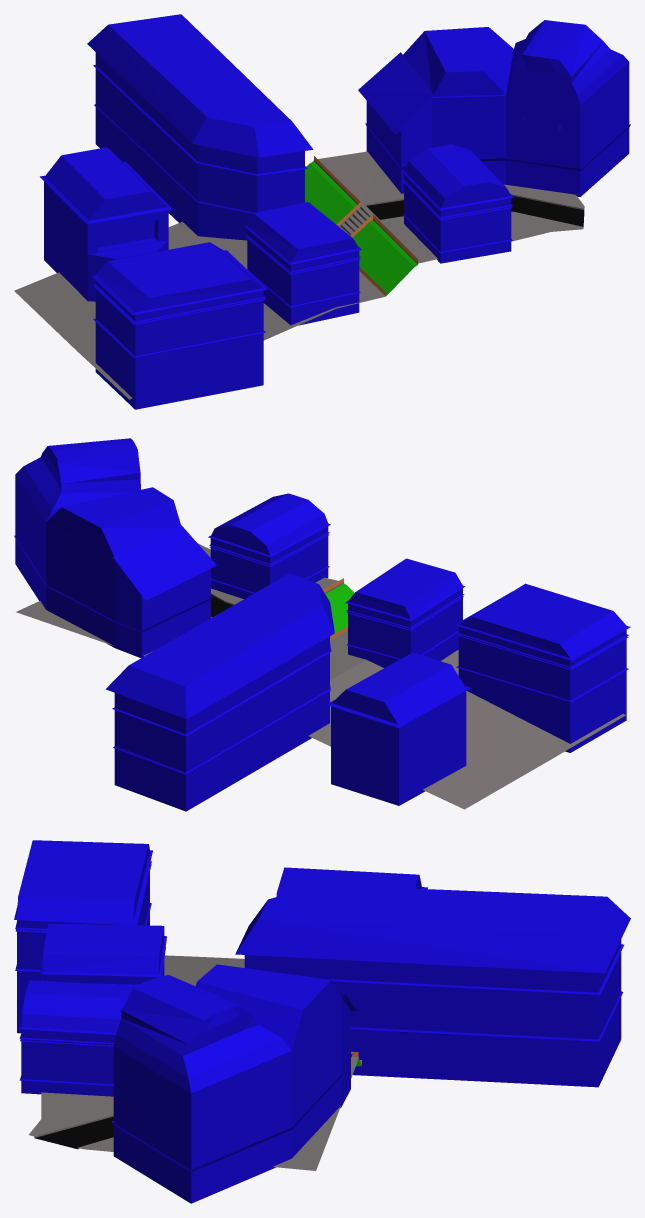
File: Cidade.fbx
3 renders of one model, top to bottom at view 1: azimuth 30°, elevation 25°; view 2: azimuth 150°, elevation 25°; view 3: azimuth 270°, elevation 25°, orthographic. The views are drawn at different scales.
Parts seen in each view (by area): view 1: Predios 4, Predio 5, Predio3, Piso, Predio6, Prédio2, Predio1; view 2: Predio 5, Predios 4, Predio3, Predio6, Piso, Prédio2, Predio1; view 3: Predio 5, Predios 4, Predio3, Predio1, Prédio2, Piso, Predio6.
Boxes of the visible parts, left/top/right/bottom form: Predios 4: left=358, top=20, right=630, bottom=196; Predio 5: left=87, top=14, right=313, bottom=240; Predio3: left=91, top=242, right=267, bottom=409; Piso: left=14, top=151, right=584, bottom=399; Predio6: left=40, top=147, right=172, bottom=301; Prédio2: left=245, top=202, right=361, bottom=325; Predio1: left=401, top=144, right=513, bottom=263; Predio 5: left=106, top=573, right=334, bottom=811; Predios 4: left=14, top=438, right=216, bottom=657; Predio3: left=454, top=583, right=630, bottom=752; Predio6: left=326, top=652, right=470, bottom=805; Piso: left=16, top=543, right=625, bottom=809; Prédio2: left=345, top=558, right=465, bottom=667; Predio1: left=208, top=493, right=330, bottom=598; Predio 5: left=235, top=884, right=630, bottom=1087; Predios 4: left=111, top=964, right=356, bottom=1203; Predio3: left=14, top=840, right=152, bottom=1033; Predio1: left=18, top=980, right=135, bottom=1096; Prédio2: left=40, top=923, right=166, bottom=986; Piso: left=29, top=955, right=362, bottom=1170; Predio6: left=276, top=867, right=427, bottom=896.
Size of the model in its own units: 9816 by 3427 by 7747.
